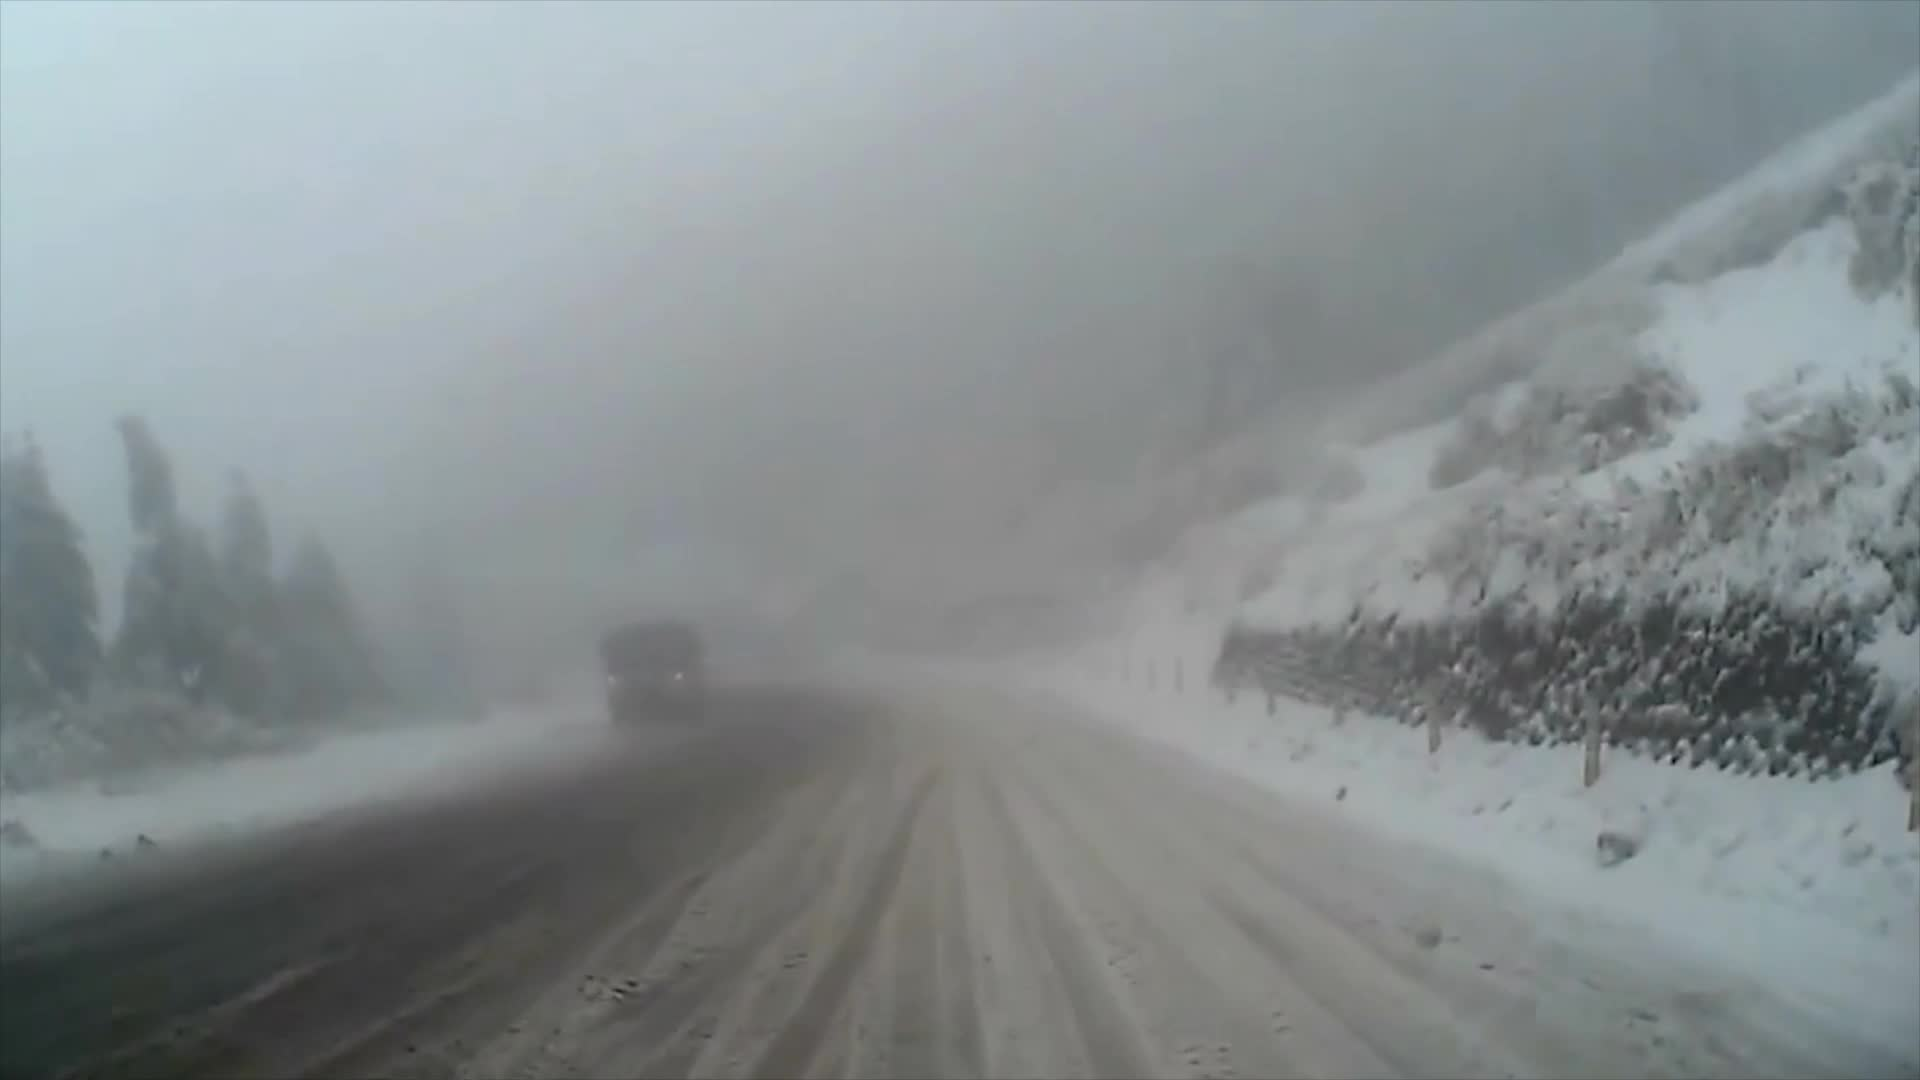vehicle: (593, 625, 704, 727)
